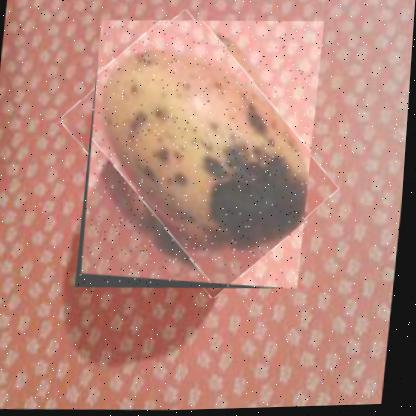mango_rotten: (77, 15, 325, 297)
